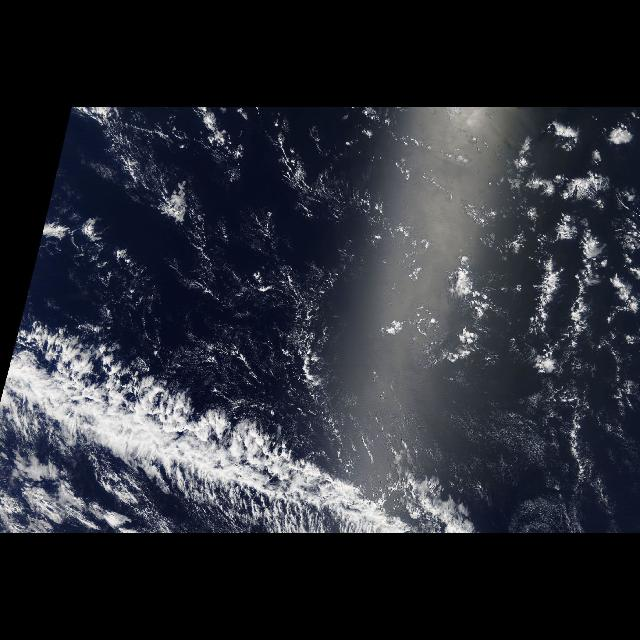Fish: (1, 307, 408, 533), (449, 378, 639, 522)
